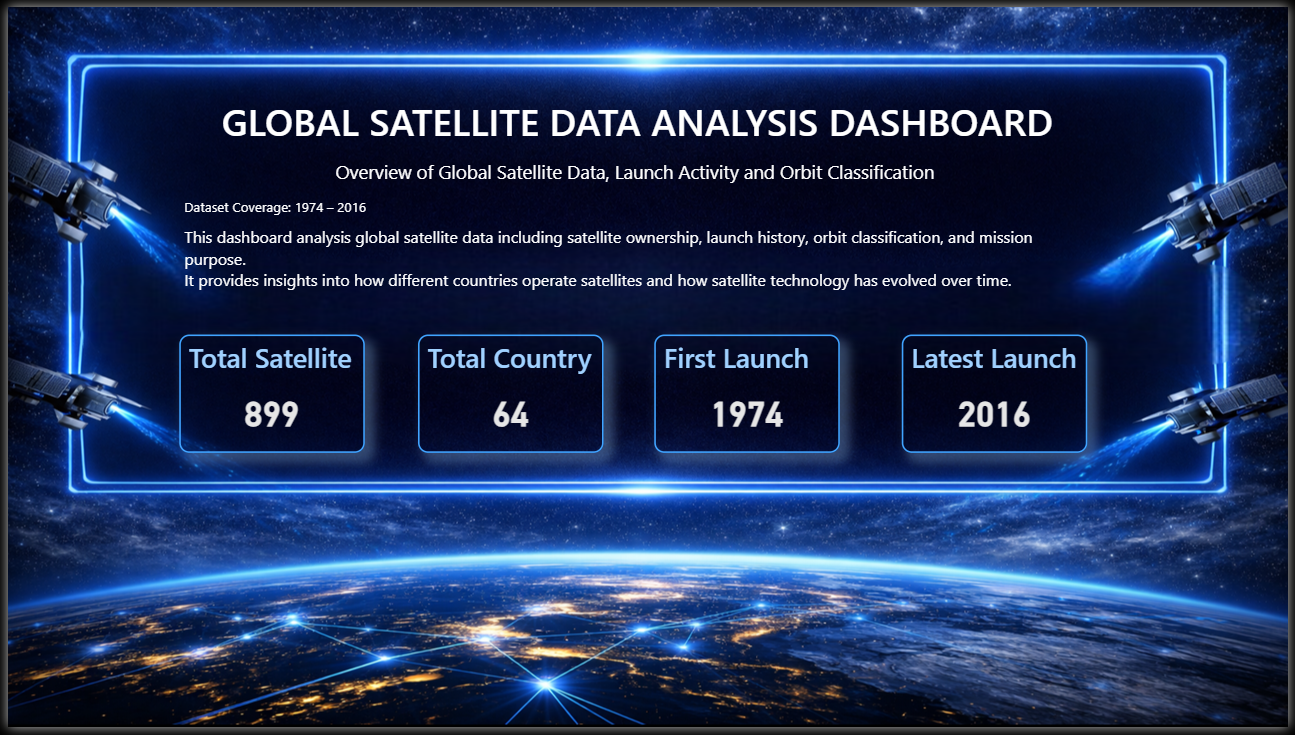

The dashboard page shown, as its layout file describes it:
{"tool":"powerbi","page":{"name":"Satellite Data Overview","canvas":[1280,720],"ordinal":0},"visuals":[{"type":"textbox","box":[208.6,84.3,862.9,62.9],"z":0},{"type":"textbox","box":[322.9,147.1,621.4,52.9],"z":1000},{"type":"textbox","box":[171.2,213.8,890,83.8],"z":2000},{"type":"card","title":"Total Satellite","fields":{"Values":["CountNonNull(maindata.Official Name of Satellite)"]},"box":[171.9,327.1,185.7,118.6],"z":3000},{"type":"card","title":"Total Country","fields":{"Values":["Count(maindata.Country of Operator/Owner)"]},"box":[410.4,327.1,185.7,118.6],"z":4000},{"type":"card","title":"First Launch","fields":{"Values":["Min(maindata.Year)"]},"box":[646.1,327.1,185.7,118.6],"z":5000},{"type":"card","title":"Latest Launch","fields":{"Values":["Max(maindata.Year)"]},"box":[893.3,327.1,185.7,118.6],"z":6000},{"type":"textbox","box":[171.4,185.7,300,28.6],"z":7000}]}

Visuals, with their boxes in screenshot pixels (x1, y1, x2, y2), scaled from the page's 1280x720 canvas onto the 1295x735 screenshot:
textbox: <region>211, 86, 1084, 150</region>
textbox: <region>327, 150, 955, 204</region>
textbox: <region>173, 218, 1074, 304</region>
"Total Satellite" card: <region>174, 334, 362, 455</region>
"Total Country" card: <region>415, 334, 603, 455</region>
"First Launch" card: <region>654, 334, 842, 455</region>
"Latest Launch" card: <region>904, 334, 1092, 455</region>
textbox: <region>173, 190, 477, 219</region>
